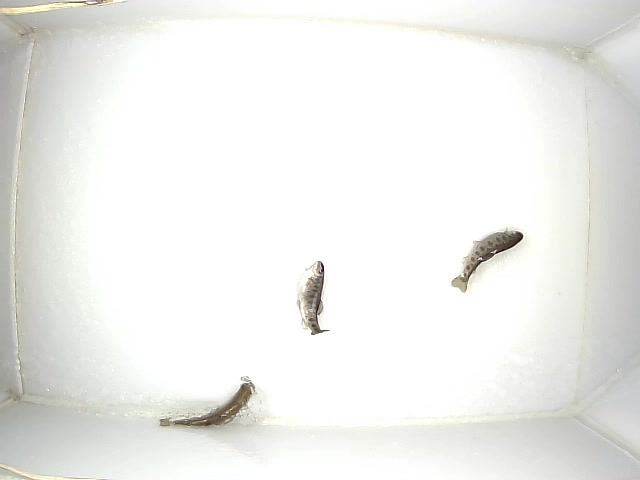fish: (451, 226, 524, 293), (159, 380, 256, 427), (296, 260, 330, 335)
